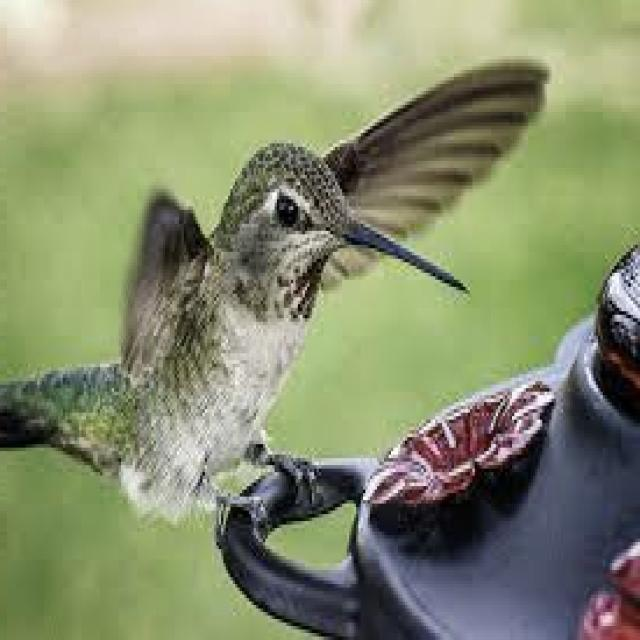hummingbird: (2, 63, 549, 514)
